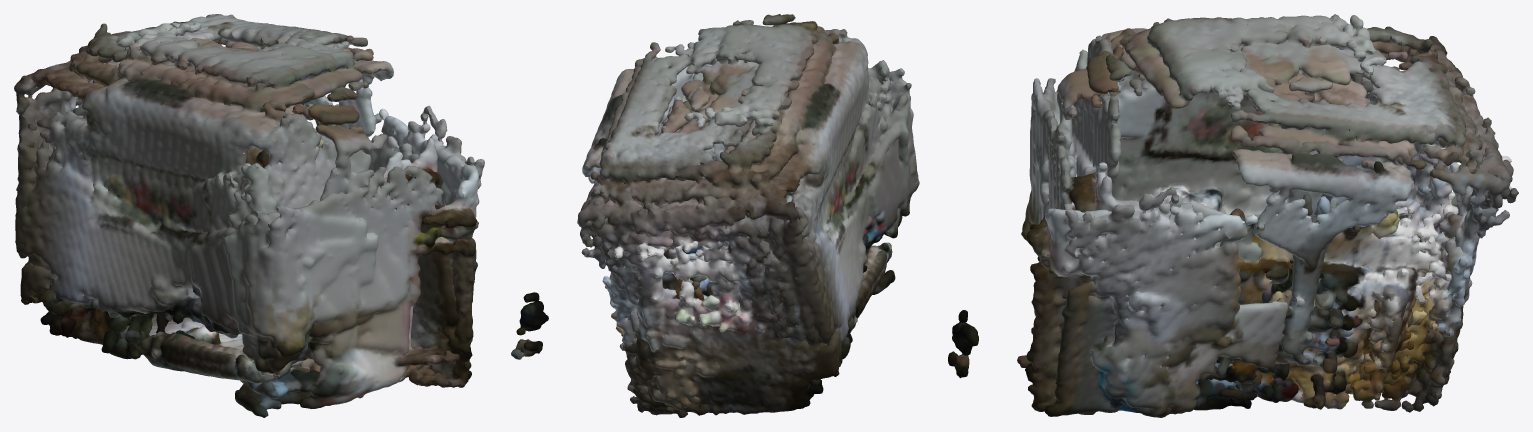
File: room_model.glb
The picture shows the model from 3 angles, left to right: view 1: azimuth 30°, elevation 25°; view 2: azimuth 150°, elevation 25°; view 3: azimuth 270°, elevation 25°; orthographic projection. The views are drawn at different scales.
Parts seen in each view (by area): view 1: RoomMesh; view 2: RoomMesh; view 3: RoomMesh.
Part boxes in pixels (x1,y1,x2,y2): RoomMesh: (14, 14, 548, 417); RoomMesh: (577, 14, 919, 417); RoomMesh: (948, 14, 1518, 417).
Size of the model in its own units: 4.69 by 4.69 by 6.71.
